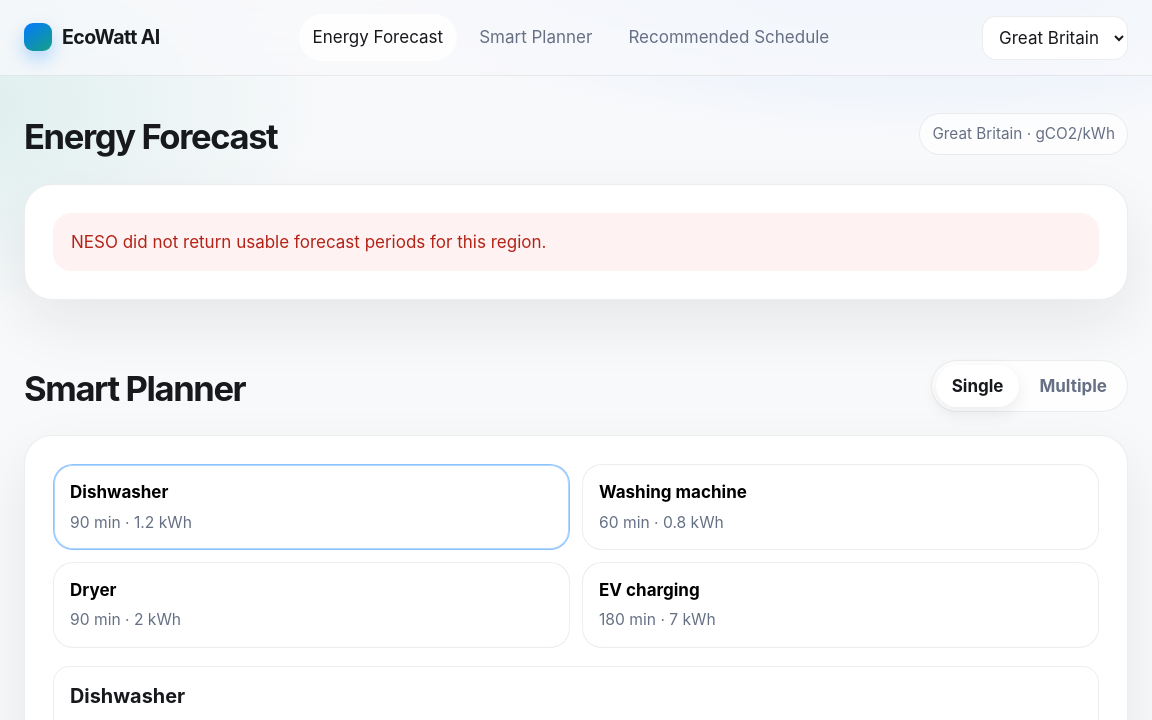
Test case: EcoWatt site flow › uses the multiple endpoint after switching mode
The width and height of the screenshot is (1152, 720).
Click the button "Multiple". click: click(1073, 386)
box: [1023,364,1123,407]
(page scrolled)
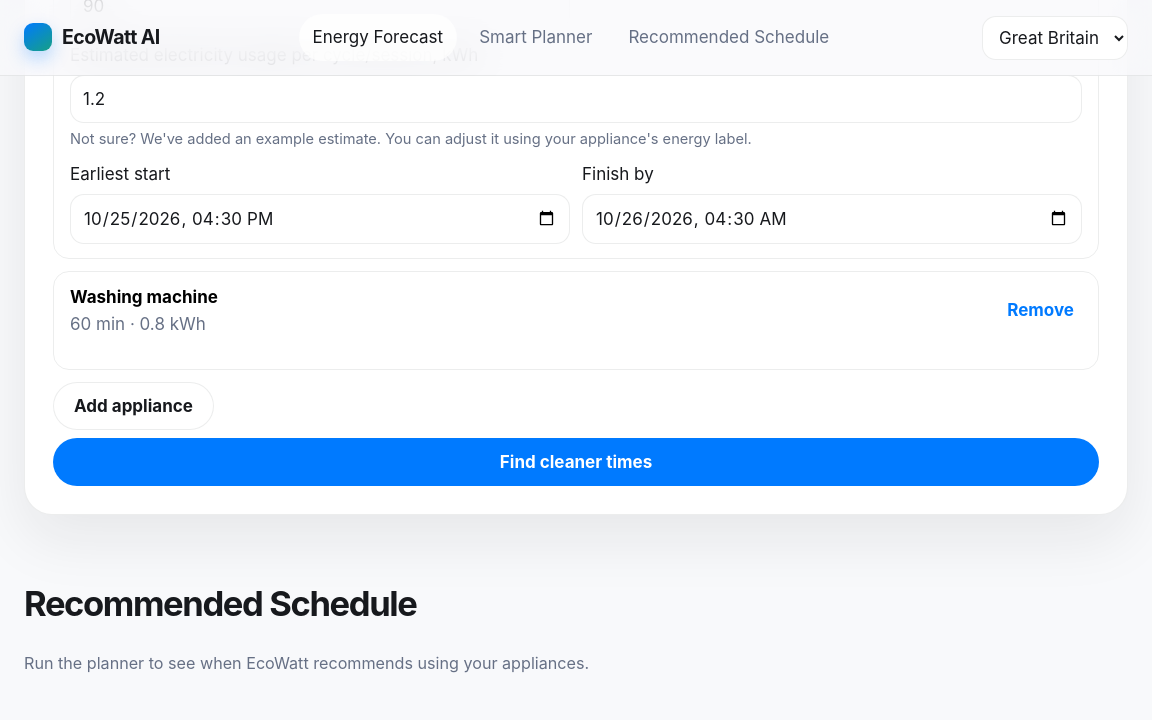
Click the button "Find cleaner times". click: click(576, 462)
box: [53,438,1099,486]
(page scrolled)
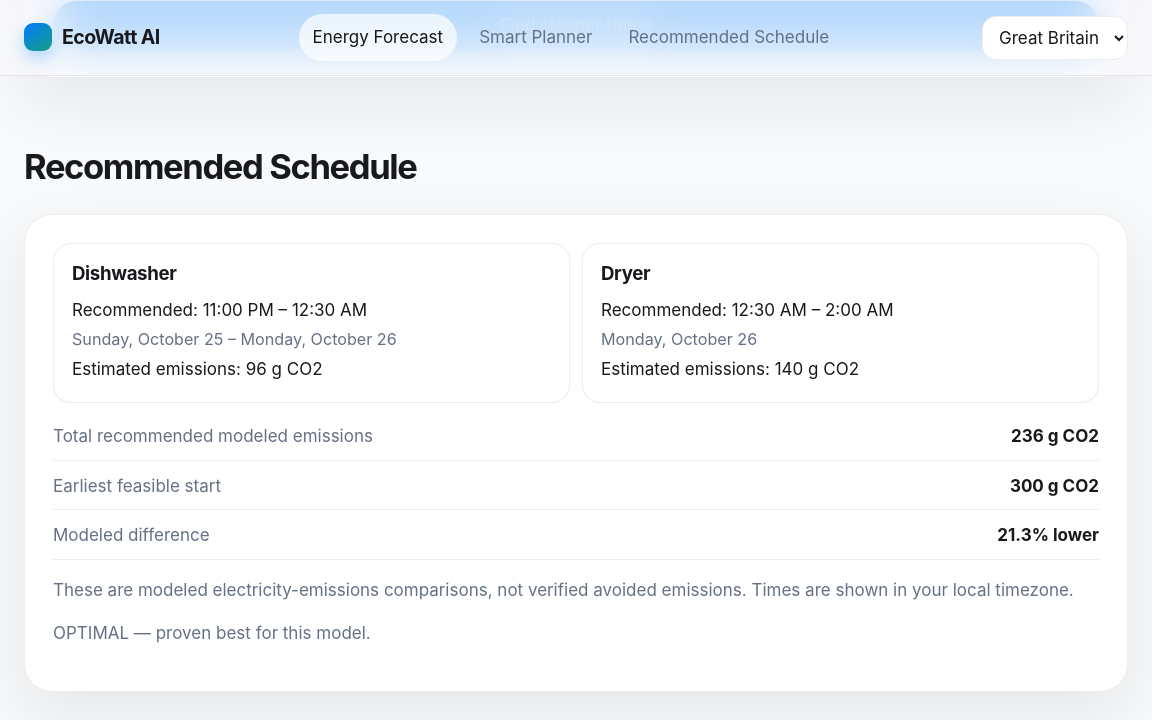
Check: the text "OPTIMAL — proven best for this model." is shown, box [53,623,371,643]
